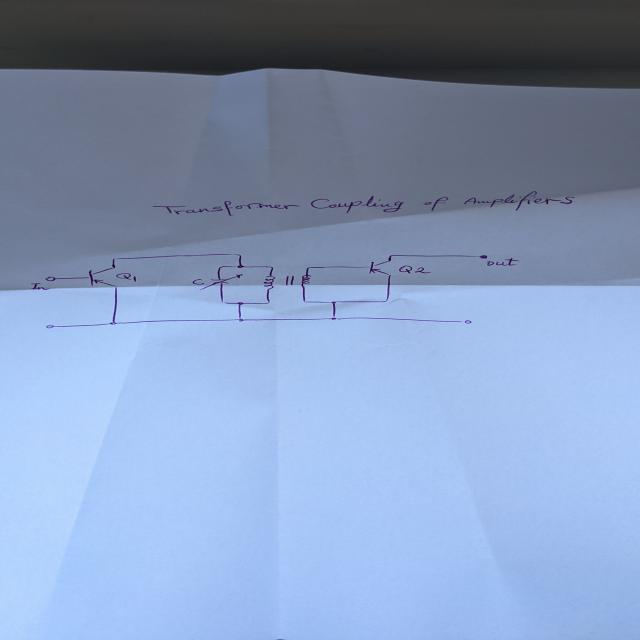capacitor: (198, 273, 243, 290)
junction: (328, 315, 340, 321), (236, 316, 246, 322), (108, 320, 118, 326), (235, 263, 246, 268), (231, 253, 244, 257), (235, 301, 245, 306), (219, 300, 227, 305), (329, 300, 338, 304), (110, 256, 118, 260), (267, 265, 275, 269), (300, 300, 308, 304), (387, 253, 395, 257), (265, 300, 272, 304), (217, 265, 224, 269), (382, 298, 389, 302)
terminal: (458, 319, 474, 324), (473, 254, 488, 259), (44, 276, 56, 281), (45, 324, 54, 328)
text: (150, 190, 576, 216), (398, 264, 432, 274), (485, 257, 520, 266), (115, 272, 137, 282), (29, 282, 50, 290), (191, 278, 204, 285)
transformer: (262, 274, 313, 290)
transistor: (86, 266, 119, 288), (364, 258, 393, 276)
